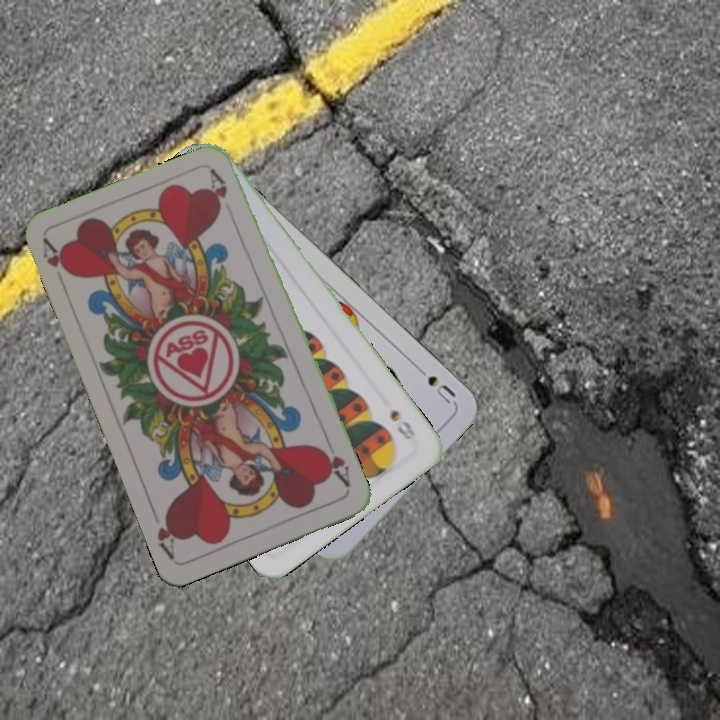HA: (316, 435, 353, 490), (38, 235, 75, 279)
S8: (386, 405, 419, 445)
SU: (410, 360, 459, 407)
